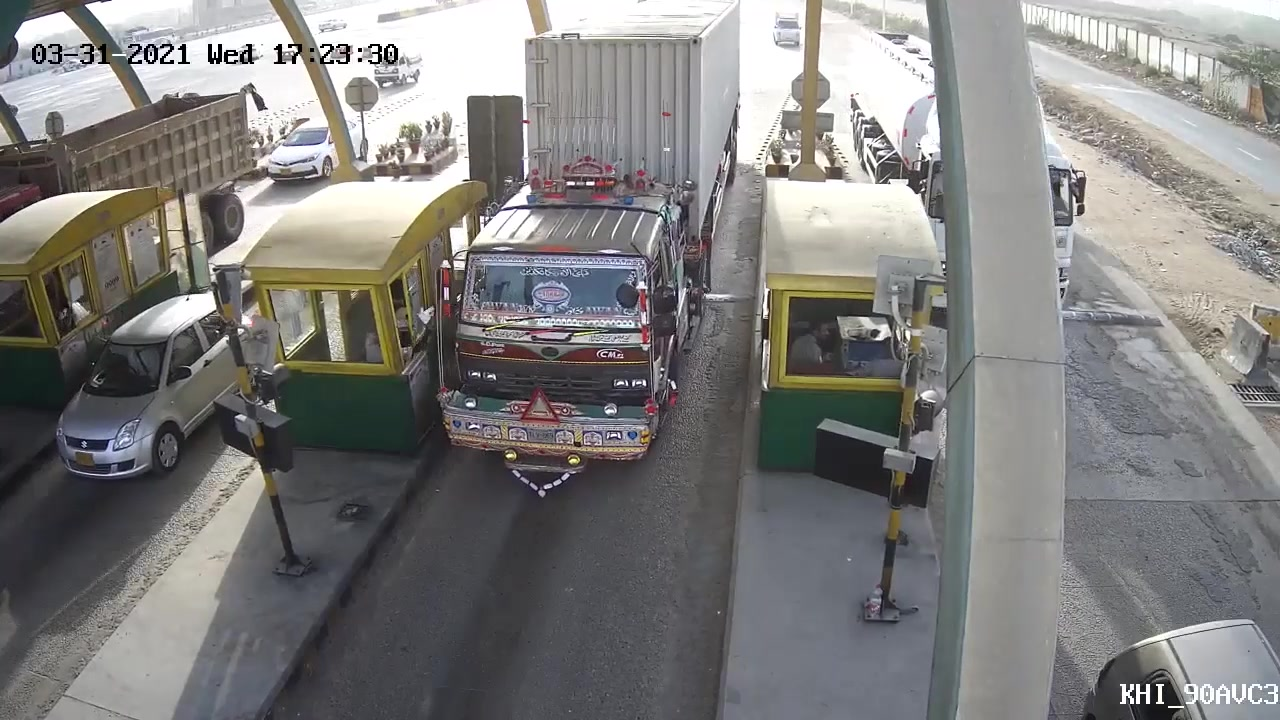F6: (431, 30, 730, 498)
